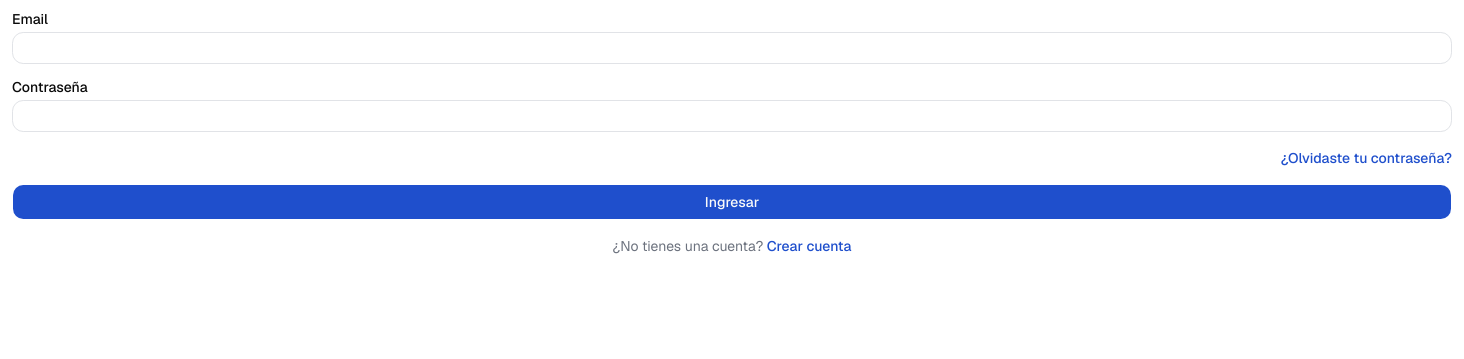
LoginForm (spec: Login and Session Establishment) › shows the distinct unverified-email message on 403
This screenshot has width=1464, height=359.
Type "user@example.com" into the field labelled "Email" at (732, 48), box [12,32,1452,64]
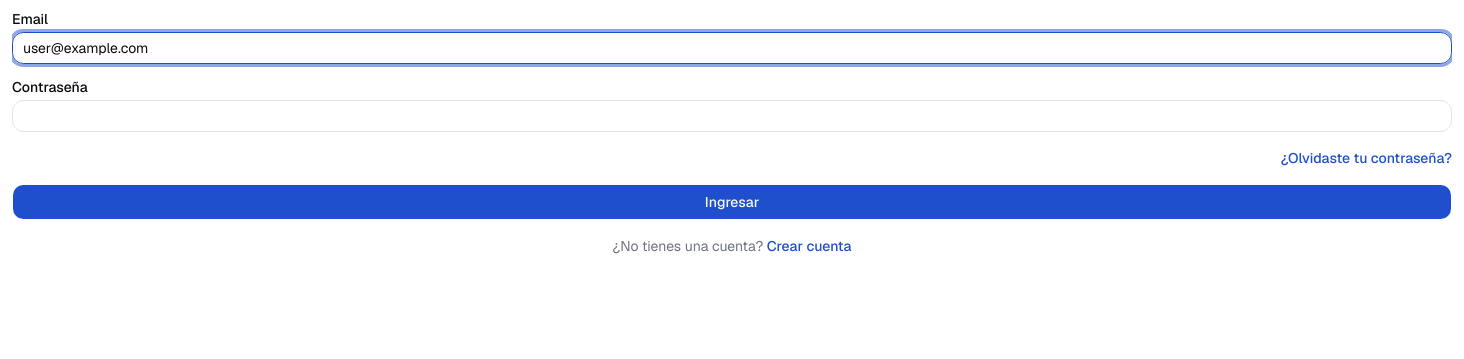
Type "correcthorse1" into the password field labelled "Contraseña" at (732, 116), box [12,100,1452,132]
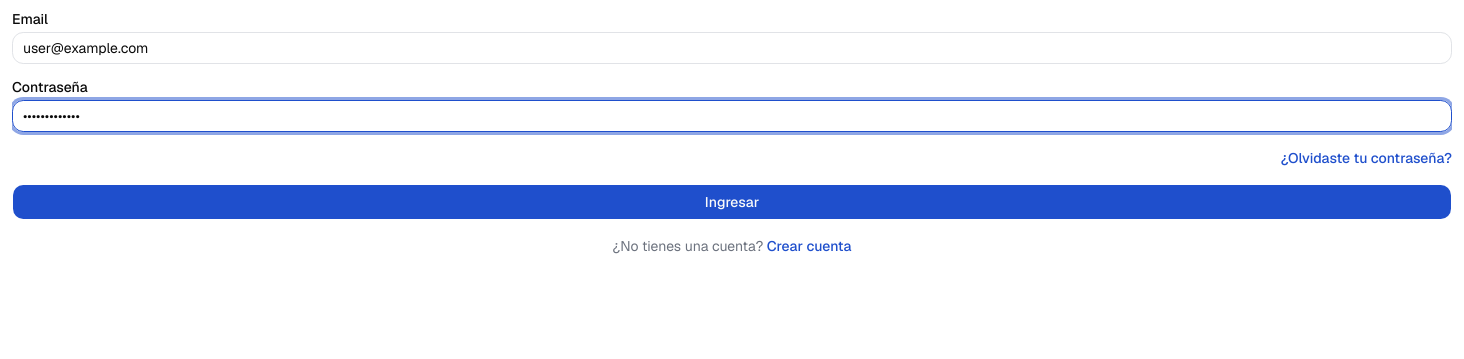
Click the button "Ingresar" at (732, 202), box [12,184,1452,220]
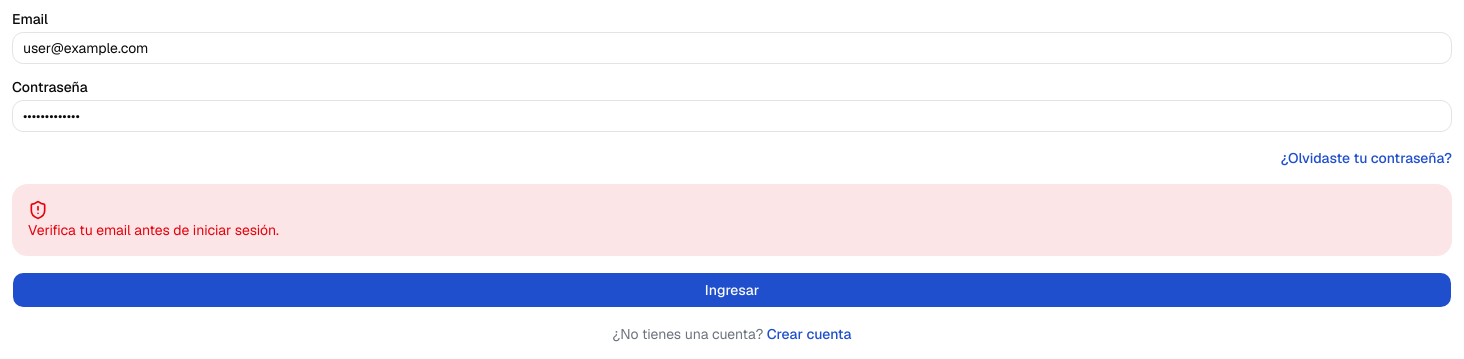
Result: the text "Verifica tu email antes de iniciar sesión." is shown at [28,221,279,239]
